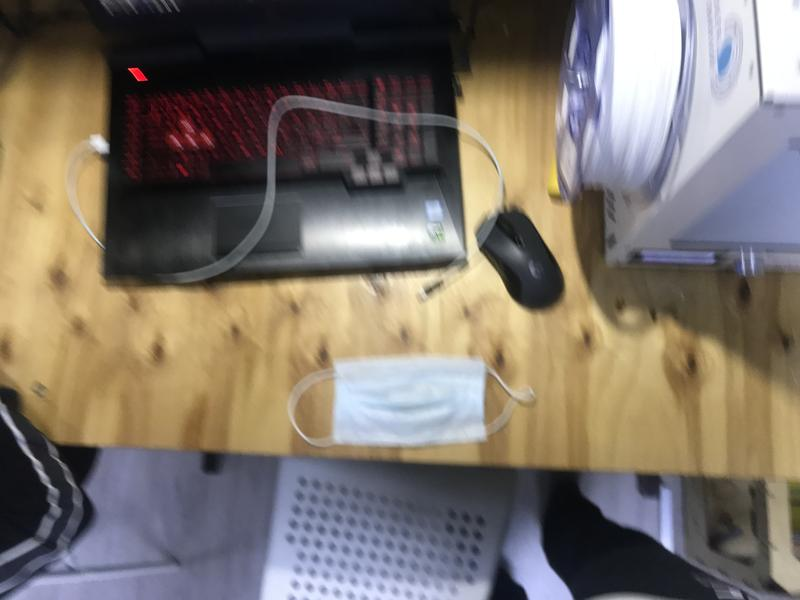medical_mask: (290, 358, 534, 444)
